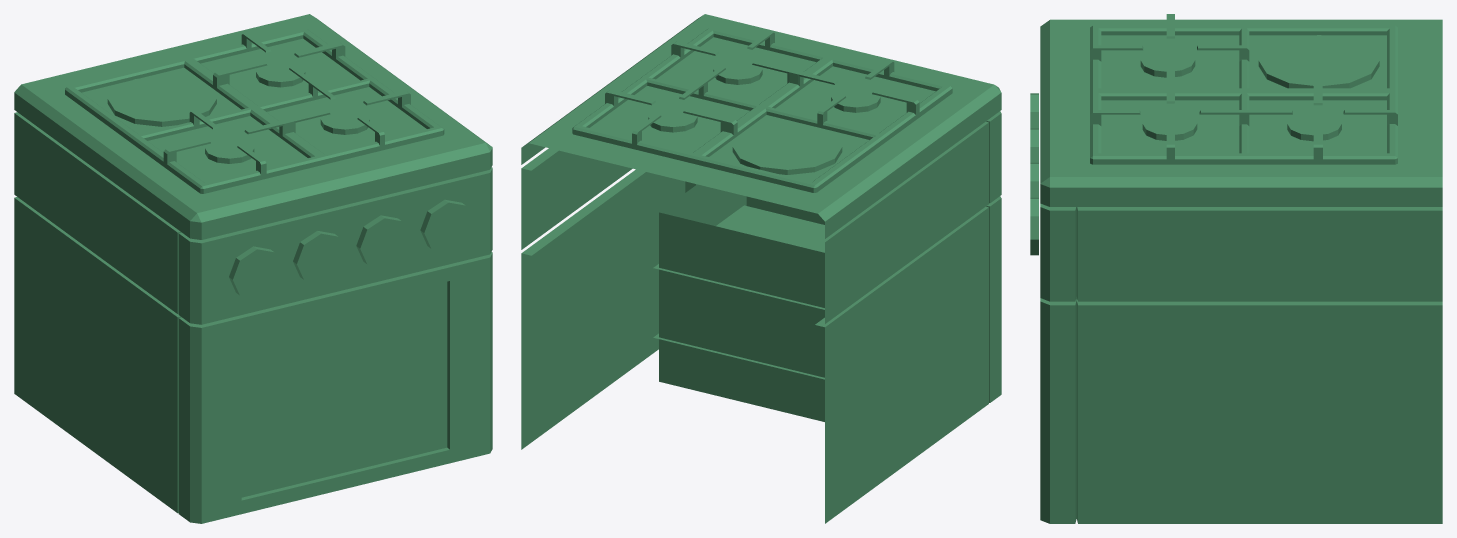
The model's file is Big_Oven_V5.fbx.
3 views of the same model, side by side, from view 1: azimuth 30°, elevation 25°; view 2: azimuth 150°, elevation 25°; view 3: azimuth 270°, elevation 25° (orthographic). The views are drawn at different scales.
Visible parts, largest first — view 1: Big_Oven; view 2: Big_Oven; view 3: Big_Oven.
Part boxes in pixels (left/top/right/bottom): Big_Oven: left=14, top=14, right=492, bottom=523; Big_Oven: left=521, top=14, right=1001, bottom=523; Big_Oven: left=1030, top=14, right=1442, bottom=523.
Size of the model in its own units: 121 by 124 by 128.
